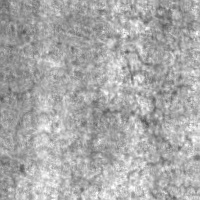crazing: (93, 1, 200, 153), (124, 152, 197, 200)
